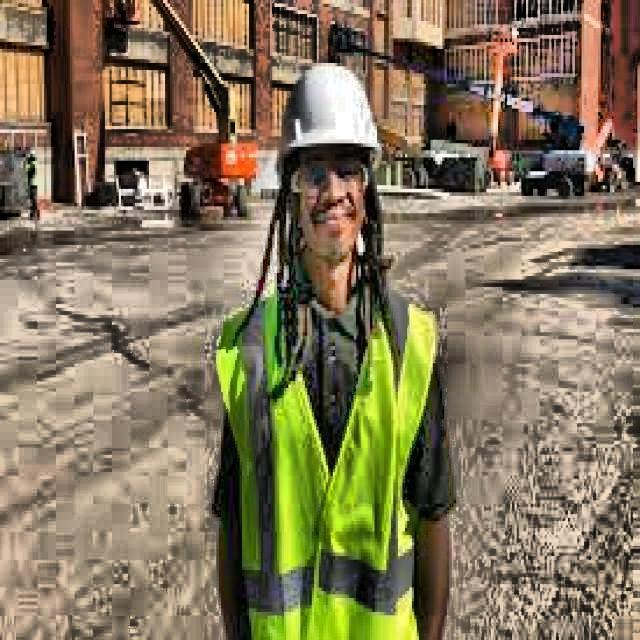bull_dozer/loader/grader: (104, 0, 259, 226), (424, 58, 594, 194)
person: (209, 49, 460, 640), (20, 144, 48, 224)
